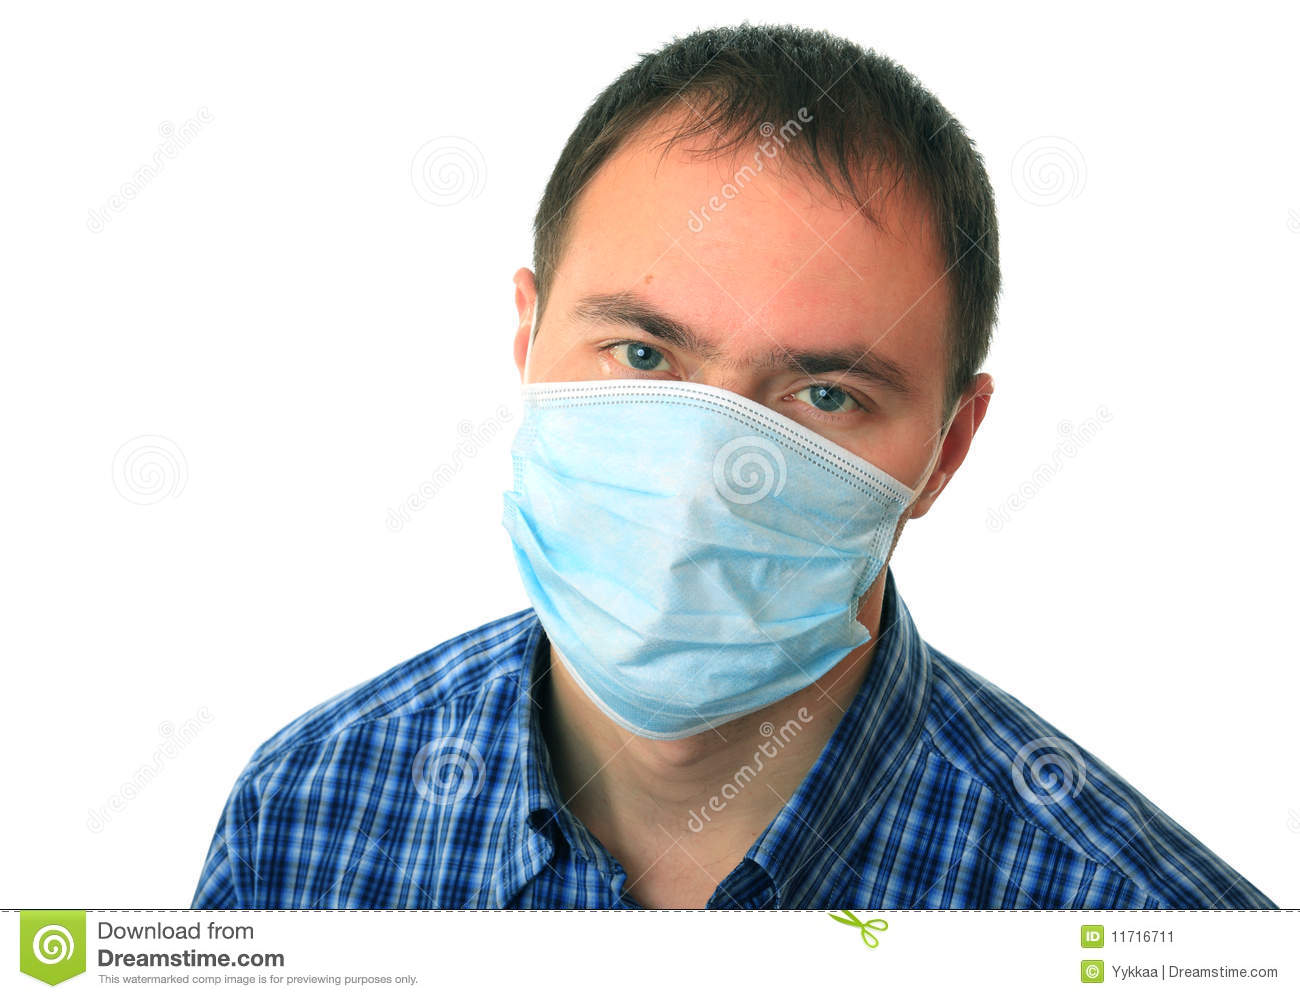mask: (499, 381, 904, 738)
